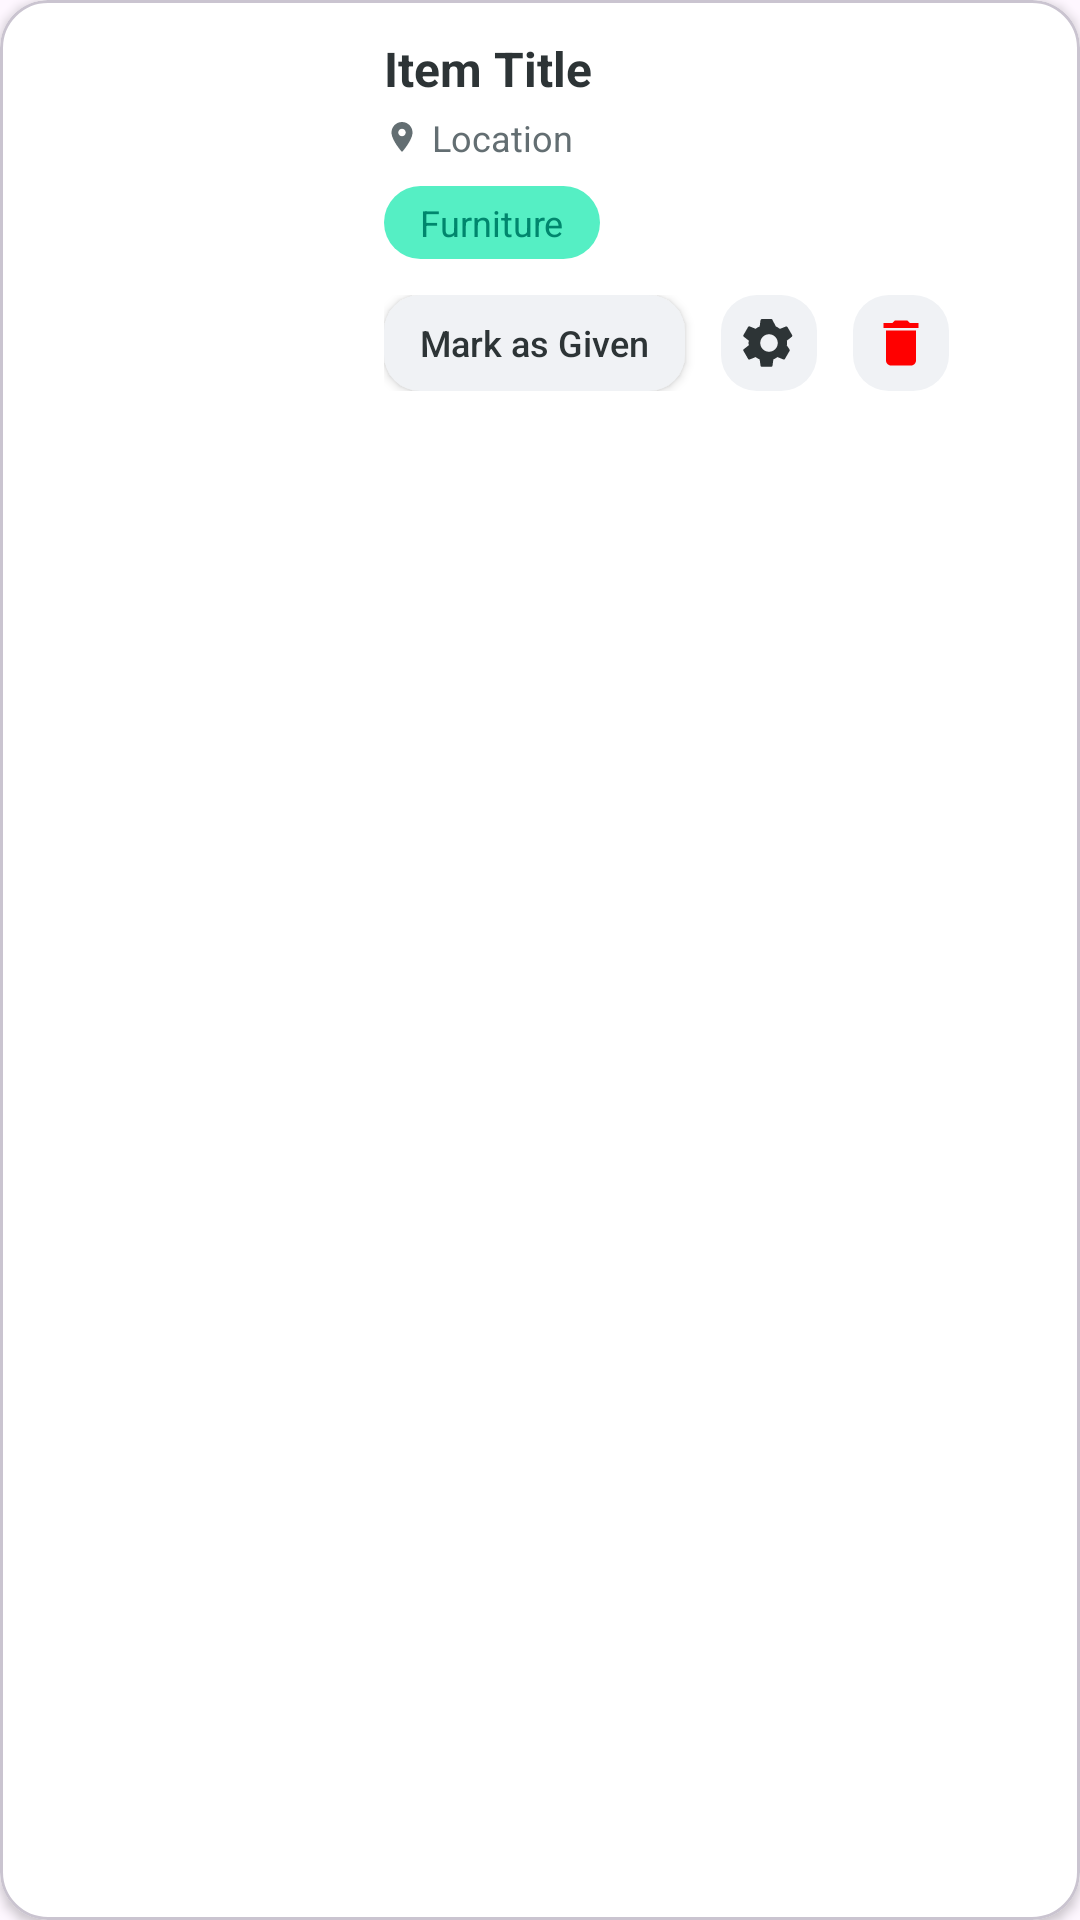

Icon bounding boxes for this 1080px x 1920px phone screenshot, format (x1, y1, x2, y2):
Delete this post: (883, 320, 919, 366)
